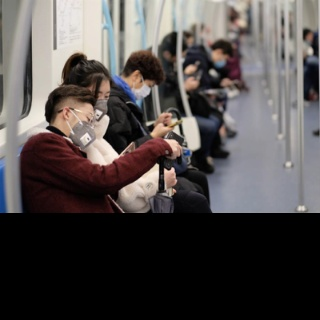with_mask: (71, 111, 96, 149), (92, 89, 111, 123), (132, 81, 156, 100), (216, 55, 230, 68)
